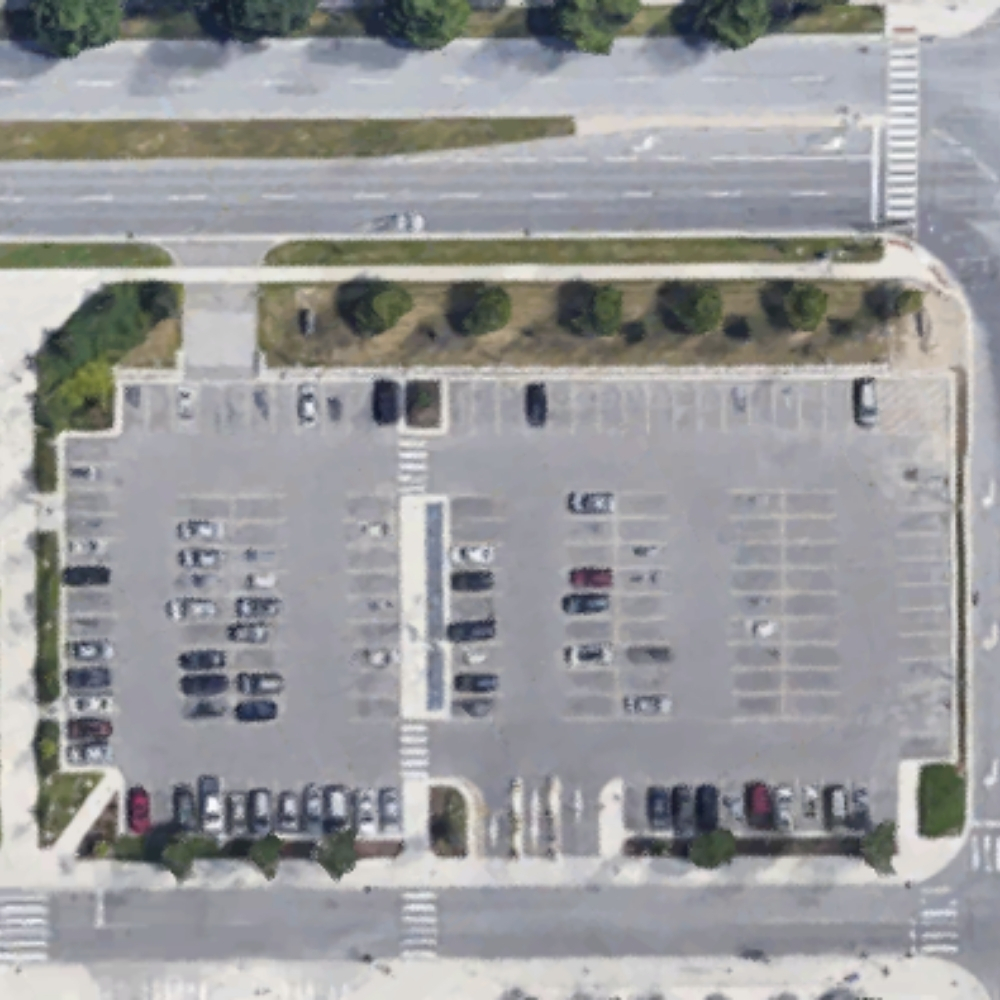parking: (50, 380, 960, 840)
